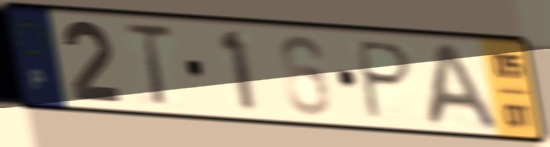1: (216, 28, 266, 116)
2: (61, 17, 127, 108)
6: (278, 33, 334, 119)
A: (421, 40, 505, 134)
P: (355, 37, 417, 123)
T: (119, 22, 178, 110)
